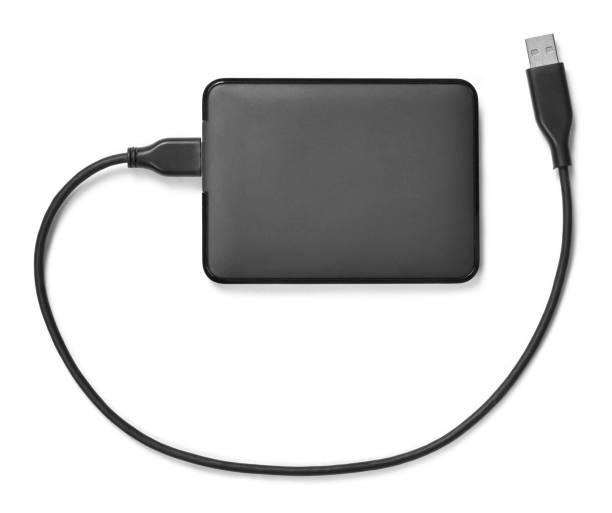HDD: (197, 77, 484, 288)
